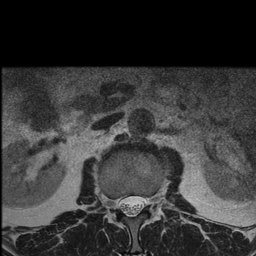CCS_normal: (128, 188, 137, 223)
LFS_normal: (147, 188, 156, 212)
LLS_normal: (138, 187, 147, 217)
RFS_normal: (109, 189, 118, 215)
RLS_normal: (118, 188, 128, 218)
